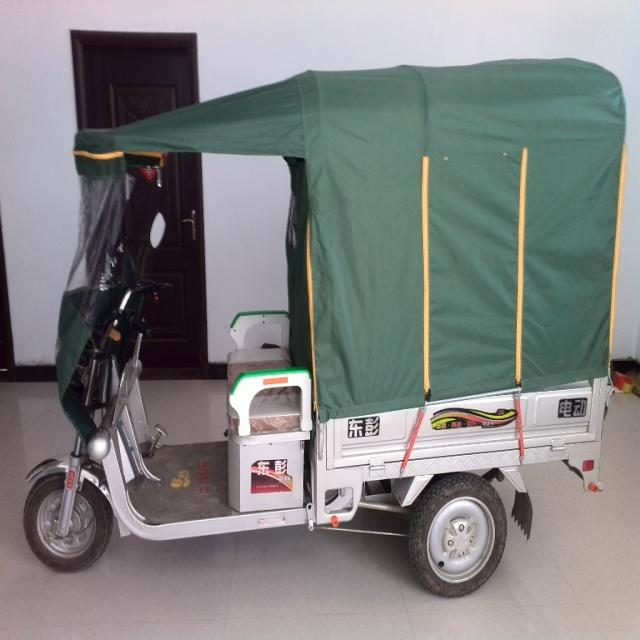tricycle: (18, 57, 628, 603)
